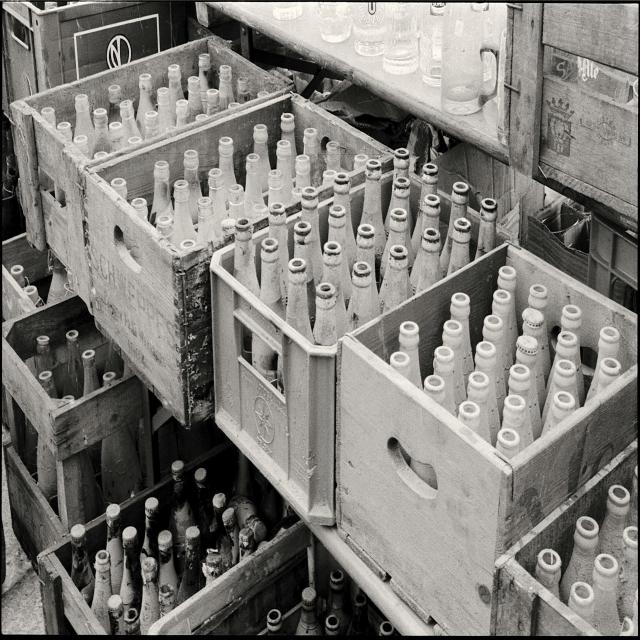electronic: (232, 143, 496, 350), (388, 264, 622, 460), (66, 457, 266, 635), (110, 110, 374, 244), (43, 49, 269, 158)
